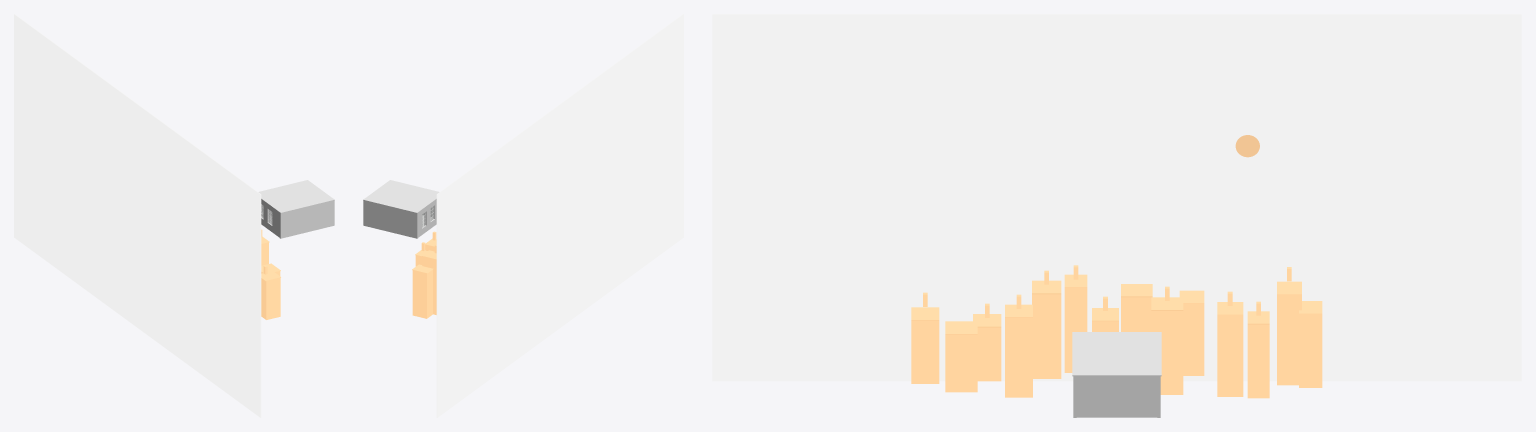
The picture shows the model from 3 angles, left to right: view 1: azimuth 30°, elevation 25°; view 2: azimuth 150°, elevation 25°; view 3: azimuth 270°, elevation 25°; orthographic projection. The views are drawn at different scales.
Visible parts, largest first — view 1: DuskSky, Ceiling, FrontWall, House_0; view 2: DuskSky, Ceiling, BackWall, House_13, House_12; view 3: DuskSky, Ceiling, RightWall, House_4, House_8, House_3, House_1, House_12, House_10, House_0, House_13, House_11 (+4 smaller).
Part boxes in pixels (x1,y1,x2,y2): DuskSky: (14,14,261,417); Ceiling: (258,180,334,213); FrontWall: (279,200,334,238); House_0: (261,271,280,319); DuskSky: (436,14,683,417); Ceiling: (363,180,439,213); BackWall: (363,200,418,238); House_13: (412,264,432,318); House_12: (422,250,436,314); DuskSky: (712,14,1521,381); Ceiling: (1072,332,1161,376); RightWall: (1076,376,1157,417); House_4: (1032,281,1061,378); House_8: (1151,298,1183,394); House_3: (1005,309,1032,397); House_1: (945,322,977,392); House_12: (1277,282,1301,385); House_10: (1217,315,1243,396); House_0: (911,308,939,383); House_13: (1299,304,1322,387); House_11: (1247,316,1269,398).
Bounding box in the file's own units: 25.85 × 30 × 60.
